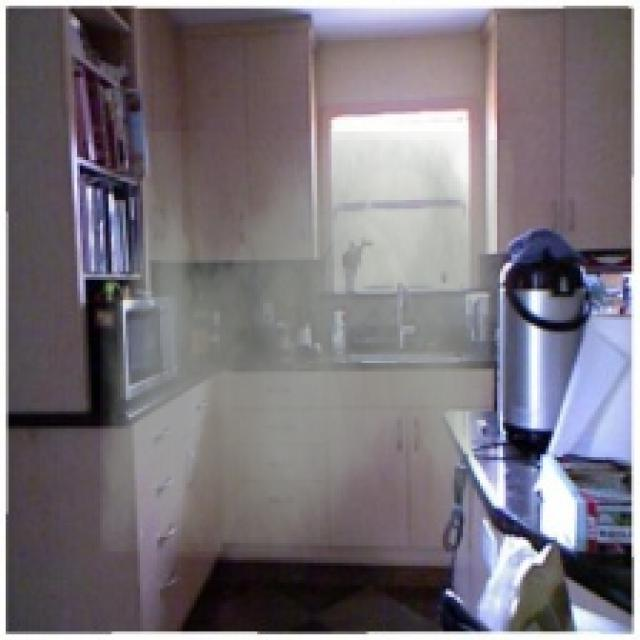smoke: (100, 132, 514, 557)
